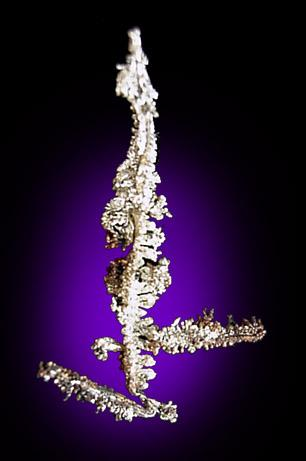silver: (37, 28, 266, 424)
